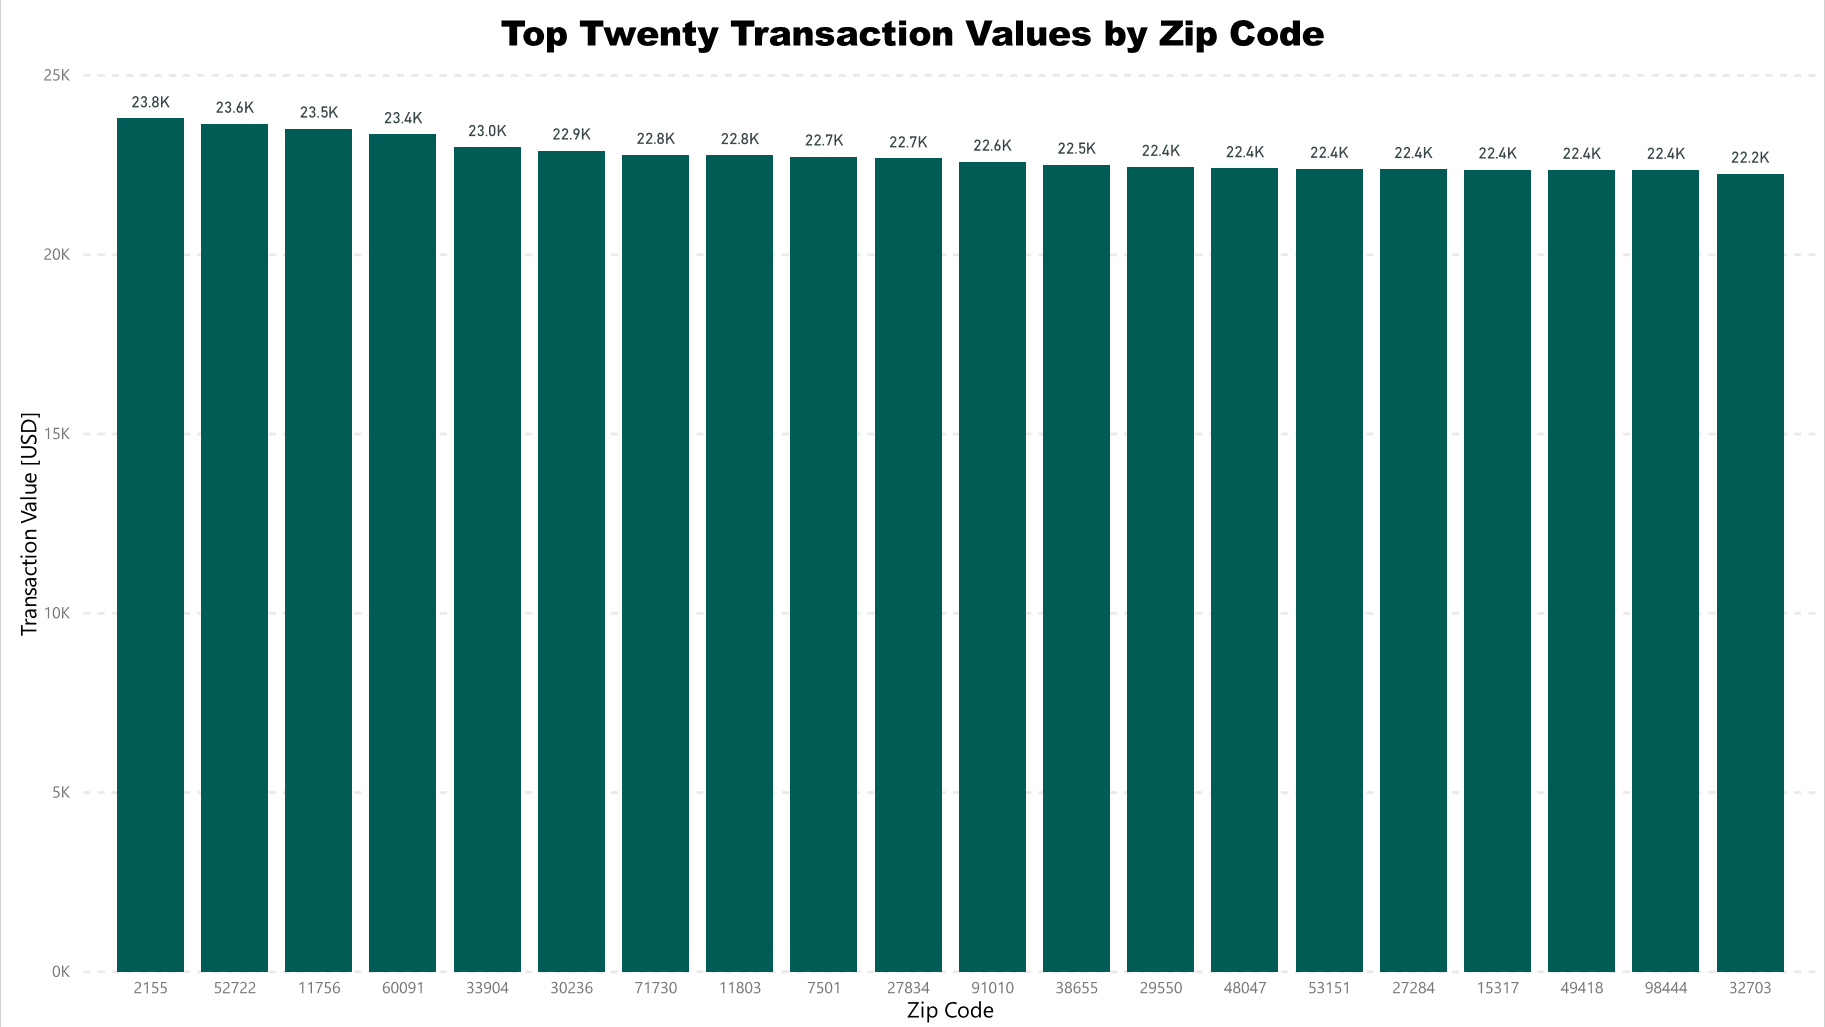

The page's visual inventory and layout, read from the dashboard file:
{"tool":"powerbi","page":{"name":"Page 1","canvas":[1280,720],"ordinal":0},"visuals":[{"type":"columnChart","title":"Top Twenty Transaction Values by  Zip Code","fields":{"Category":["cdw_sapp_d_branch.branch_zip"],"Y":["Sum(cdw_sapp_f_credit_card.transaction_value)"]},"box":[0,0,1279.6,720],"z":0}]}

Visuals, with their boxes in screenshot pixels (x1, y1, x2, y2), scaled from the page's 1280x720 canvas onto the 1825x1027 screenshot:
"Top Twenty Transaction Values by  Zip Code" columnChart: <box>0,0,1824,1026</box>
